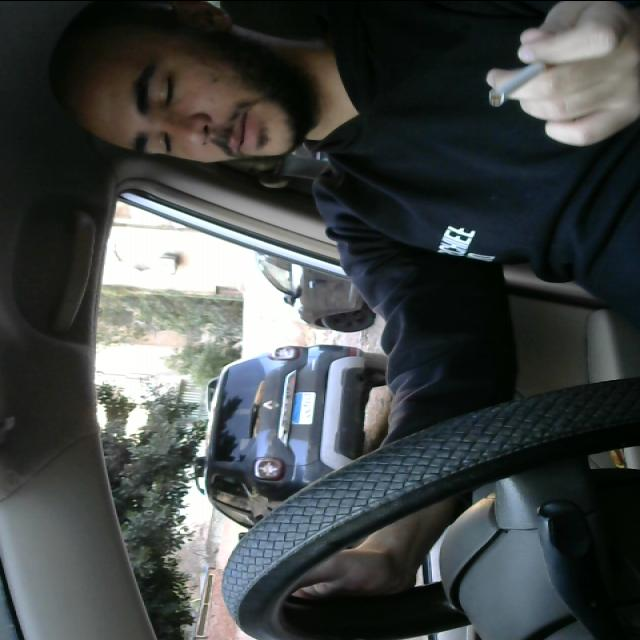smoking: (480, 40, 574, 110)
